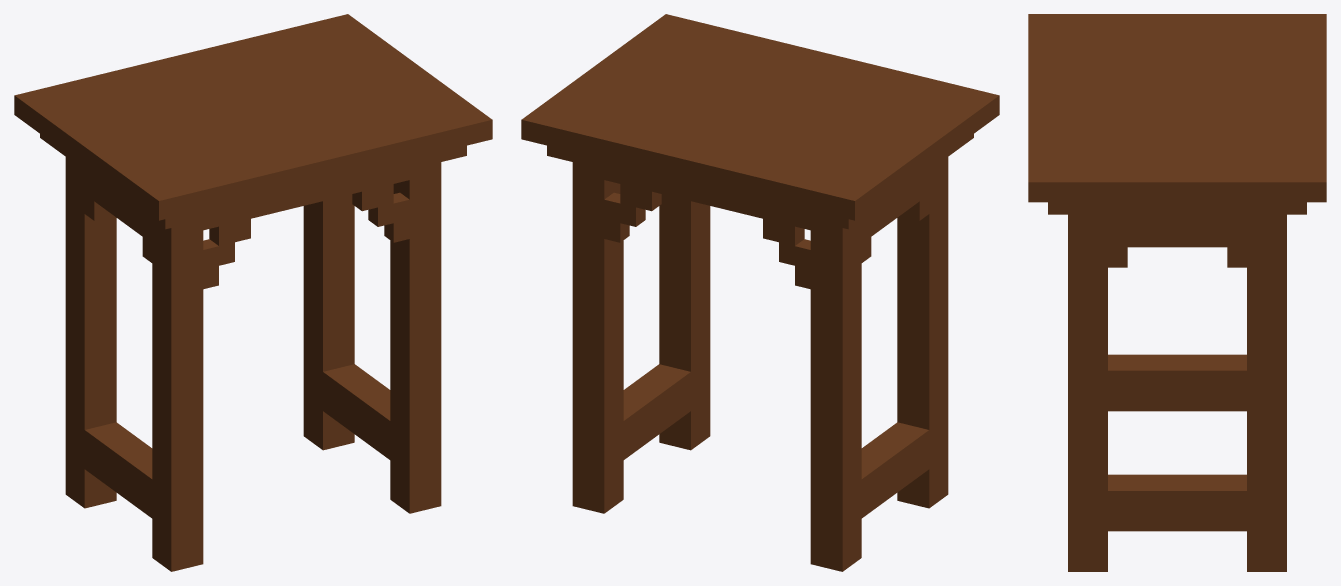
File: chaisePiano.fbx
The picture shows the model from 3 angles, left to right: view 1: azimuth 30°, elevation 25°; view 2: azimuth 150°, elevation 25°; view 3: azimuth 270°, elevation 25°; orthographic projection. The views are drawn at different scales.
Parts seen in each view (by area): view 1: Chaise du piano; view 2: Chaise du piano; view 3: Chaise du piano.
Part boxes in pixels (x1,y1,x2,y2): Chaise du piano: (14,14,492,571); Chaise du piano: (521,14,999,571); Chaise du piano: (1028,14,1326,571).
Bounding box in the file's own units: 40 × 45 × 30.
